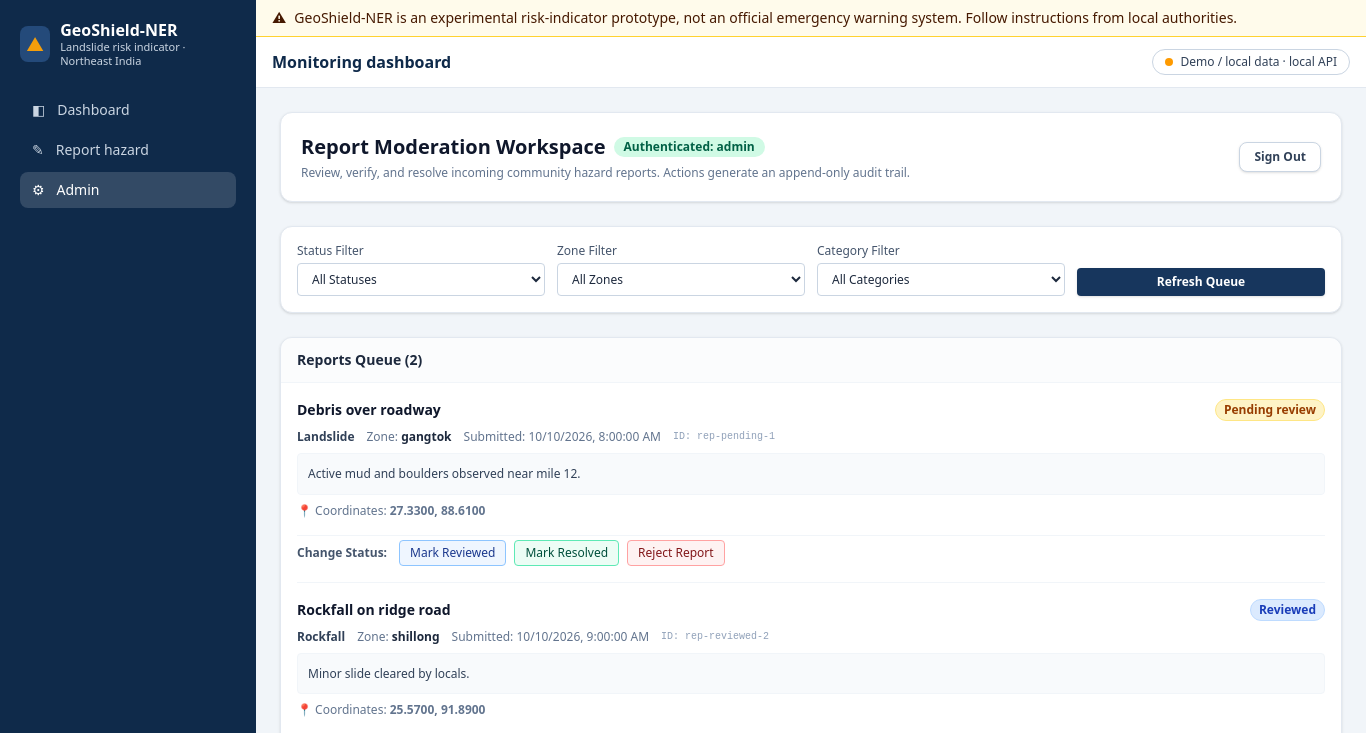
Test: Admin UI — /admin › signs out and returns to login view
Click the button "Sign Out" at (1280,157), box x1=1240 y1=142 x2=1321 y2=172
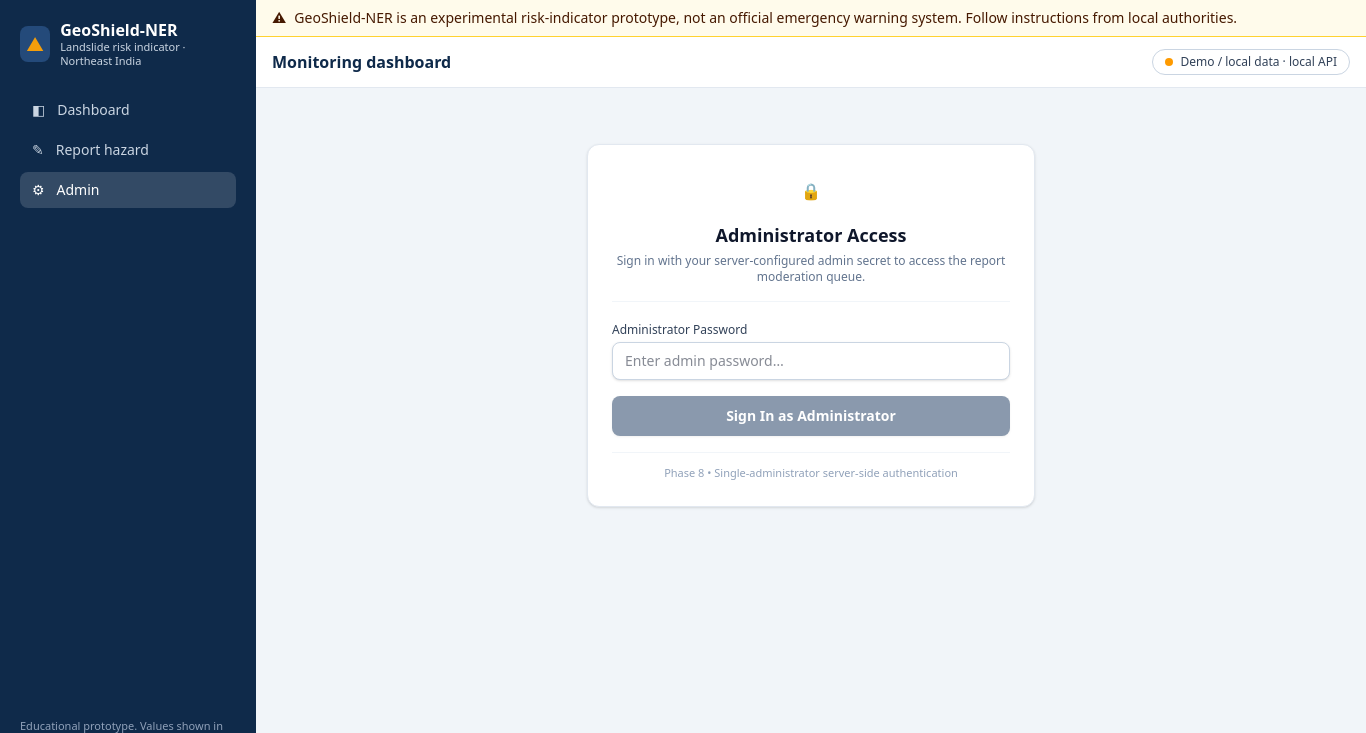
Now the heading "Administrator Access" is shown, box x1=716 y1=223 x2=906 y2=247
Now the password field labelled "Administrator Password" is shown, box x1=612 y1=342 x2=1010 y2=380
